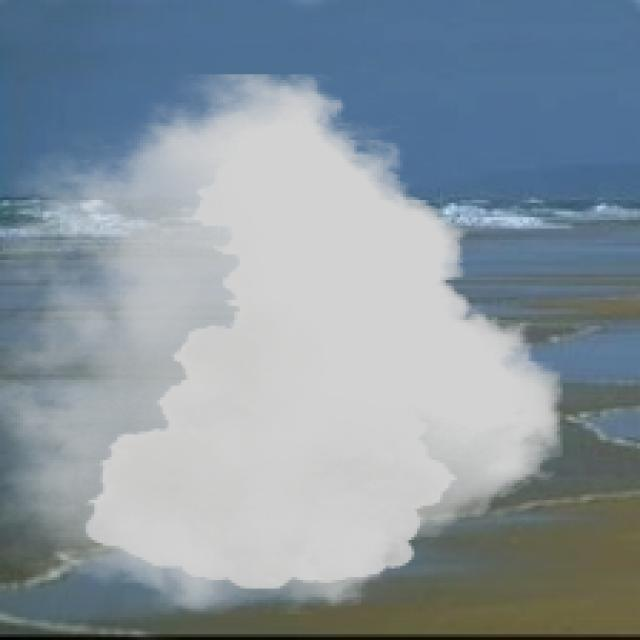smoke: (0, 75, 563, 614)
